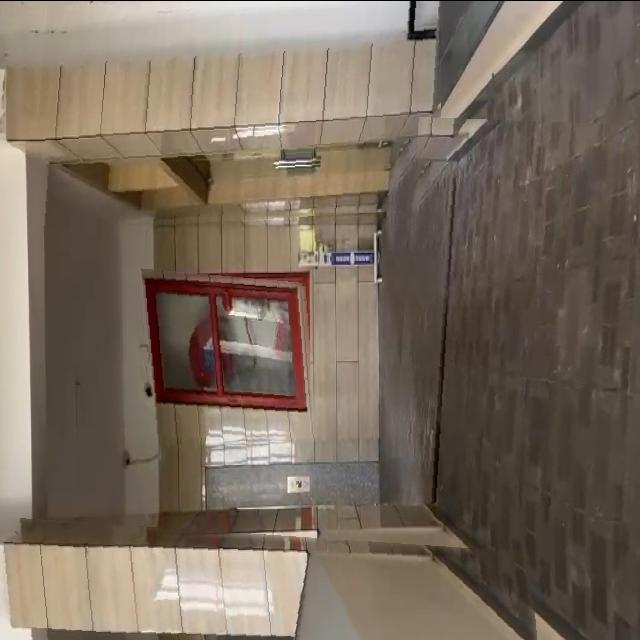door: (126, 265, 318, 437)
floor: (389, 116, 640, 520)
wall: (29, 0, 441, 232), (0, 515, 541, 640)
